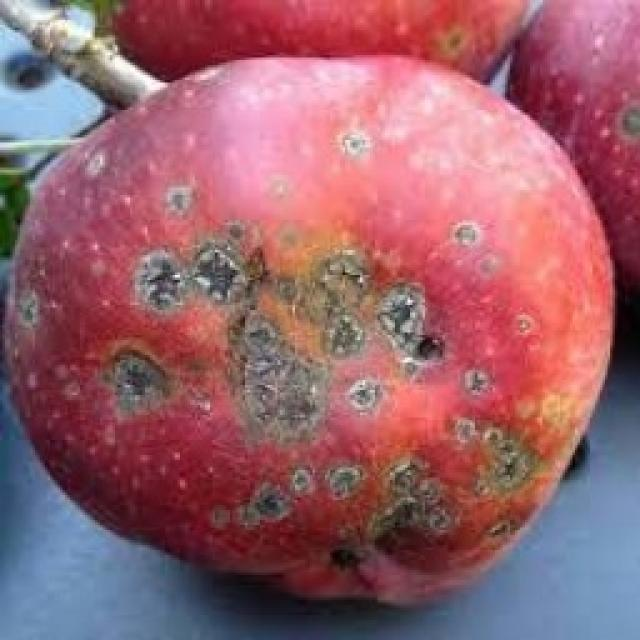defective: (0, 50, 618, 608)
